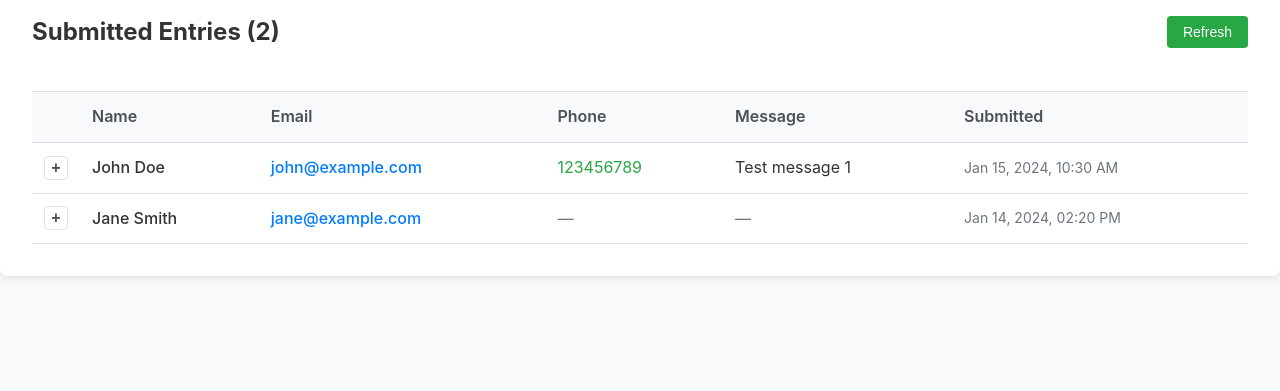
Test case: EntriesTable › Row expansion functionality › shows no custom fields message when entry has no custom fields
The image size is (1280, 391).
Click the button named "expand row" at point(56, 168), box [44,156,68,180]
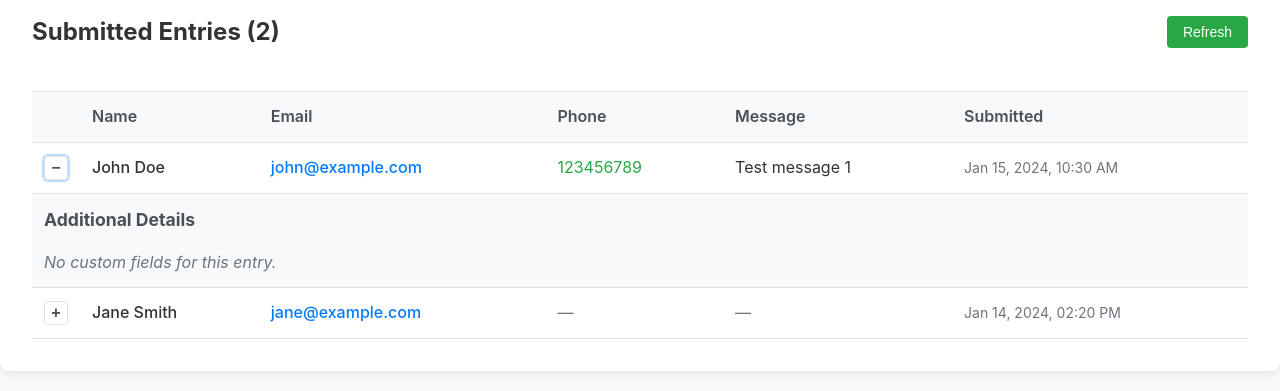
Check: the text "No custom fields for this entry." is shown, box [44,252,276,272]
